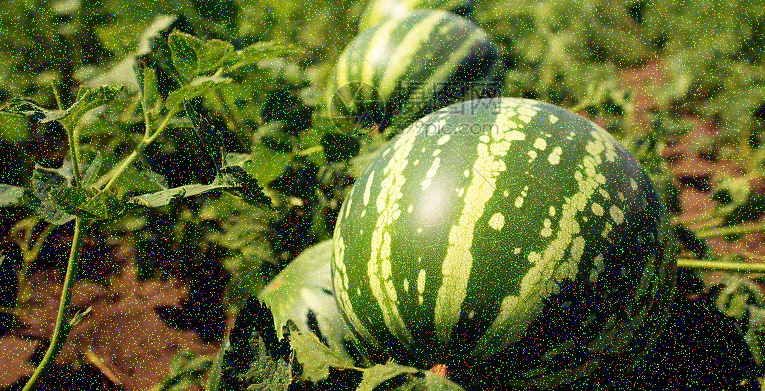watermelon: (328, 95, 669, 388), (330, 7, 502, 139)
